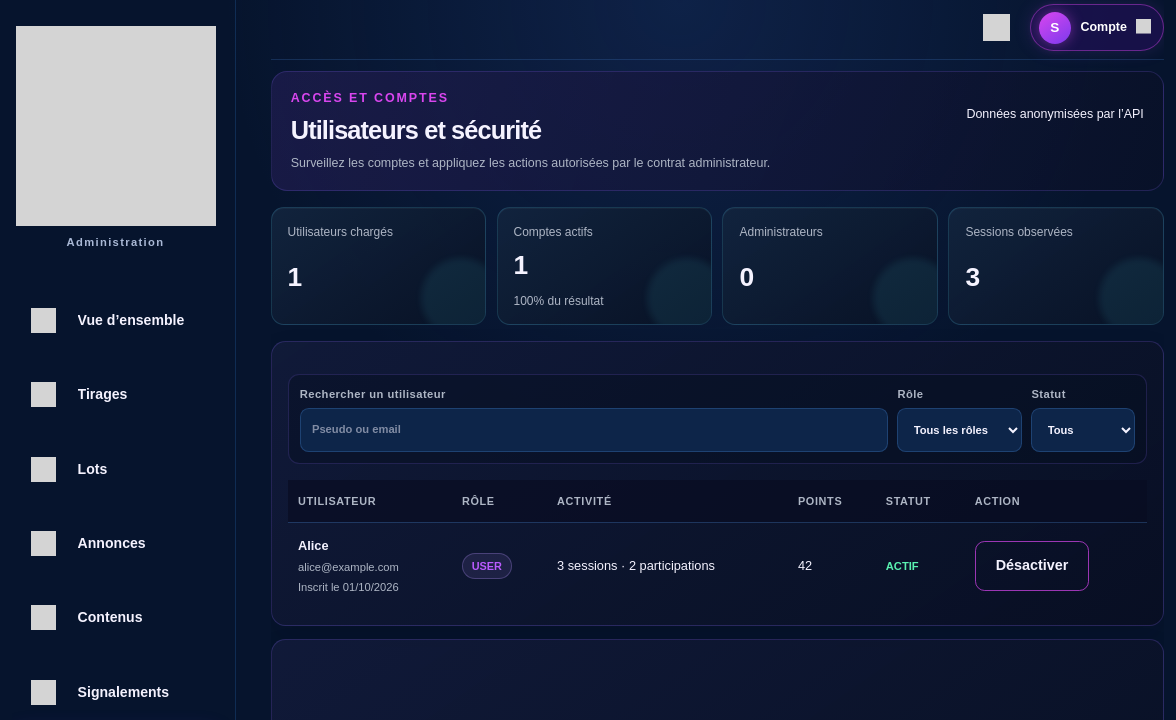
Test: affiche une erreur 403 lors de la mutation du statut
The width and height of the screenshot is (1176, 720).
Click the button "Désactiver".
click(1032, 566)  # box top-left (975, 541), bottom-right (1089, 592)
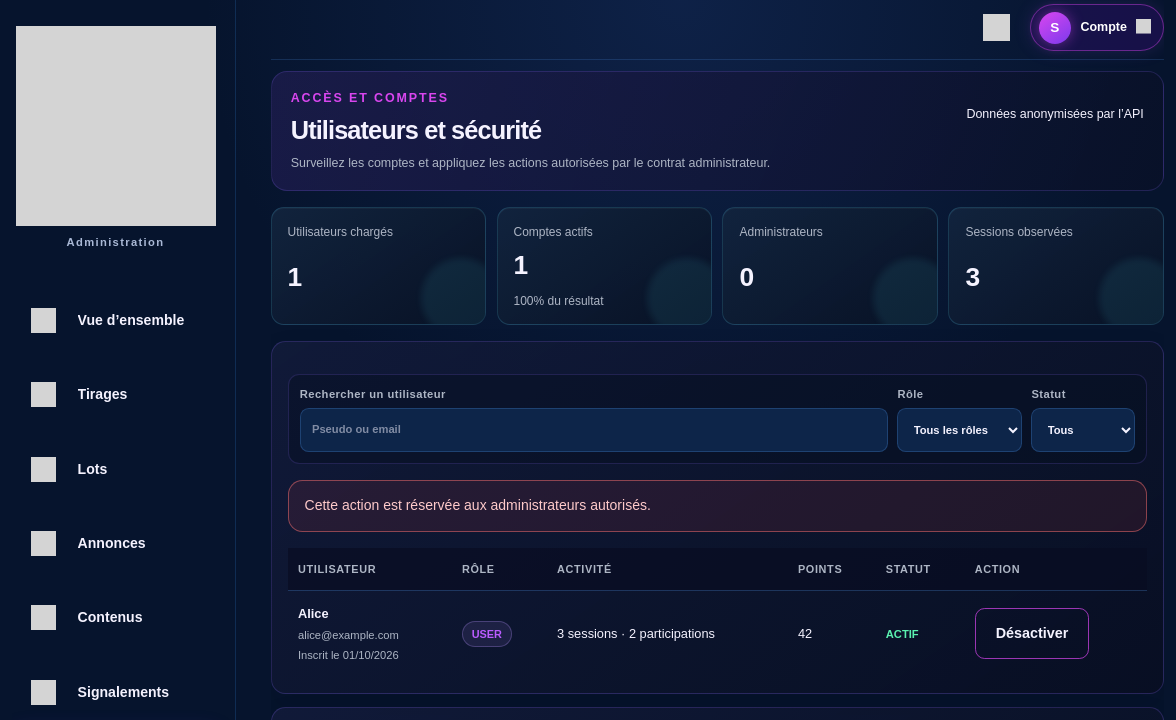
Result: the message shows "réservée aux administrateurs" at top-left (304, 497), bottom-right (651, 513)
